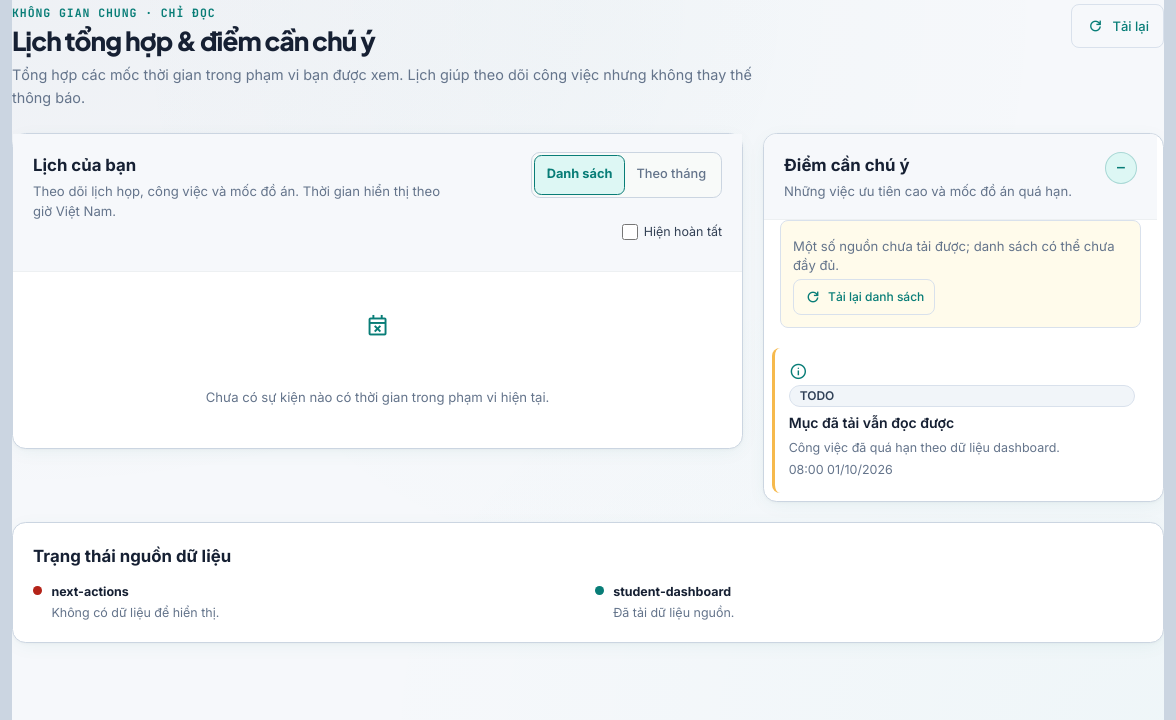
Scenario: CalendarAttentionPage › does not claim a total when next-actions fails, while preserving available items and supporting retry
Check: the text "—" is shown, box [1117,157,1125,178]
Check: the text "Mục đã tải vẫn đọc được" is shown, box [789,414,954,431]
Click the button "Tải lại danh sách" at [864, 297], box [793,279,935,315]
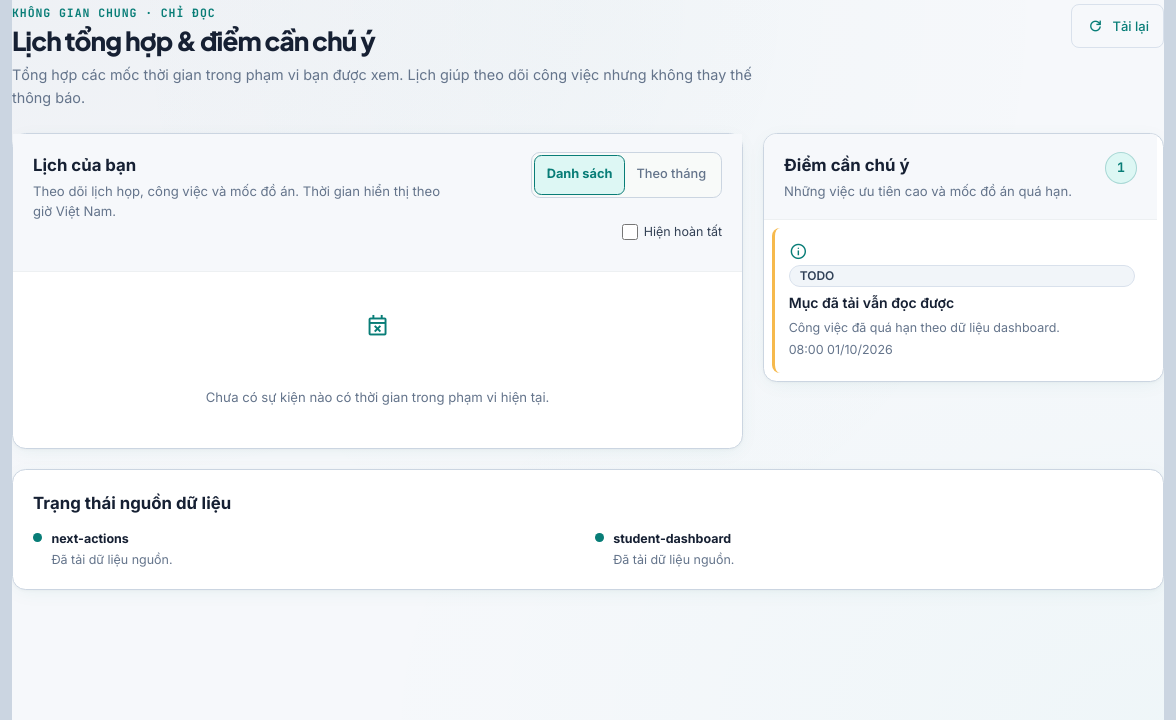
Check: the message named "1 điểm cần chú ý" is shown, box [1105,152,1137,184]
Check: the text "Một số nguồn chưa tải được; danh sách có thể chưa đầy đủ." is gone
